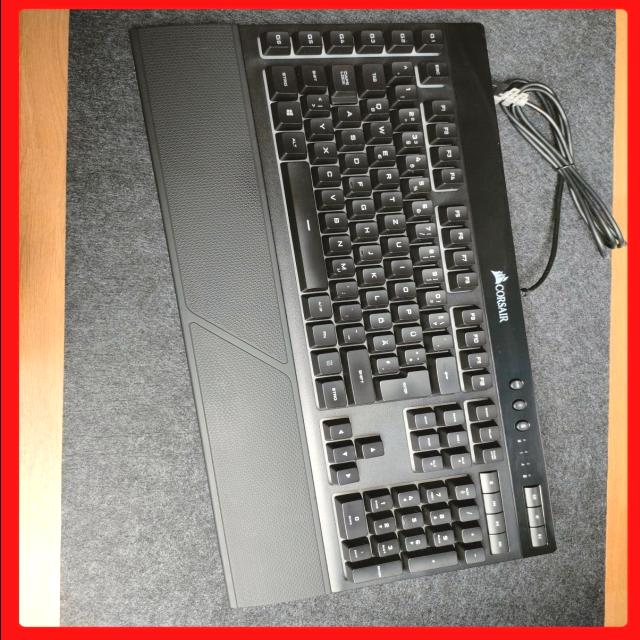0: (426, 289, 449, 307)
1: (395, 83, 419, 99)
2: (399, 106, 424, 124)
3: (401, 130, 427, 147)
4: (405, 153, 430, 169)
5: (409, 175, 433, 192)
6: (412, 199, 436, 216)
7: (416, 222, 440, 238)
8: (419, 244, 443, 260)
9: (422, 266, 446, 284)
a: (338, 105, 364, 121)
accent: (433, 333, 456, 350)
ae: (374, 333, 398, 351)
alt-left: (279, 129, 308, 158)
altgr-right: (308, 293, 334, 318)
b: (326, 211, 350, 229)
c: (319, 164, 343, 182)
caret: (393, 60, 415, 76)
comma: (336, 280, 360, 298)
d: (346, 152, 370, 168)
del: (436, 355, 461, 393)
e: (374, 144, 398, 160)
enter: (379, 368, 434, 400)
f: (349, 175, 373, 192)
g: (353, 198, 377, 215)
h: (356, 220, 380, 238)
hash: (377, 355, 401, 373)
i: (393, 258, 415, 275)
j: (360, 243, 384, 261)
k: (363, 266, 387, 284)
keyboard: (240, 18, 526, 610)
l: (367, 288, 391, 306)
less: (308, 93, 332, 110)
m: (333, 256, 357, 276)
minus: (343, 325, 367, 343)
n: (329, 234, 354, 254)
o: (396, 280, 418, 298)
oe: (370, 311, 394, 329)
p: (399, 303, 421, 321)
plus: (404, 347, 428, 365)
point: (340, 302, 364, 321)
q: (368, 97, 392, 113)
r: (378, 167, 402, 184)
s: (342, 128, 366, 145)
shift-left: (303, 64, 328, 86)
shift-lock: (332, 63, 358, 96)
shift-right: (347, 347, 375, 404)
space: (285, 160, 329, 291)
ss: (429, 311, 453, 329)
strg-left: (269, 64, 299, 94)
strg-right: (320, 377, 349, 409)
t: (382, 191, 406, 207)
tab: (363, 63, 388, 90)
u: (389, 235, 412, 253)
ue: (402, 325, 425, 343)
v: (322, 188, 346, 204)
w: (370, 121, 395, 139)
x: (315, 141, 339, 157)
y: (311, 117, 335, 134)
z: (385, 213, 409, 230)
